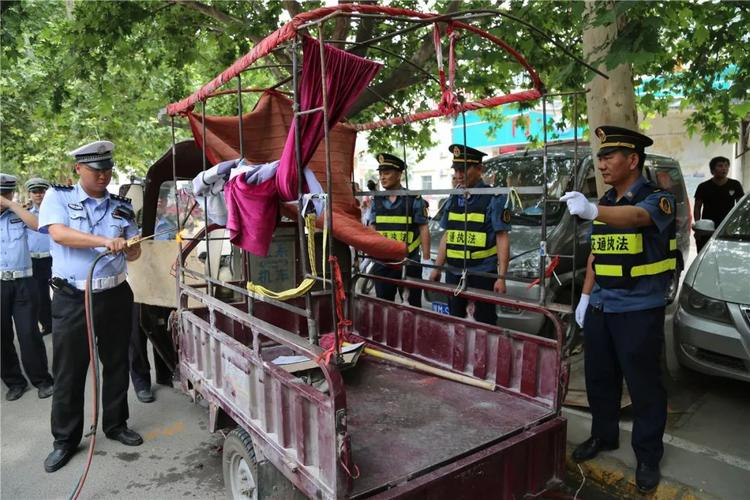empty: (134, 13, 583, 493)
